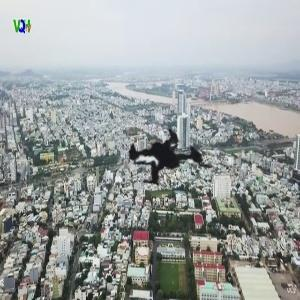drone: (66, 78, 279, 291)
